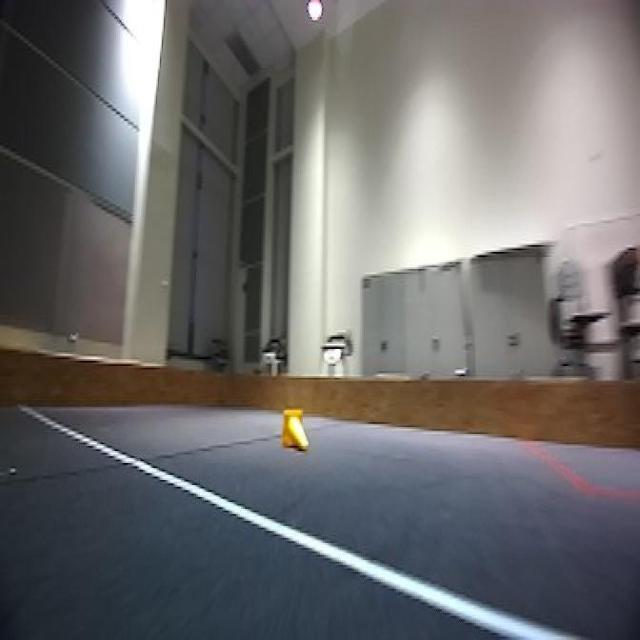frc_cone: (283, 409, 310, 451)
